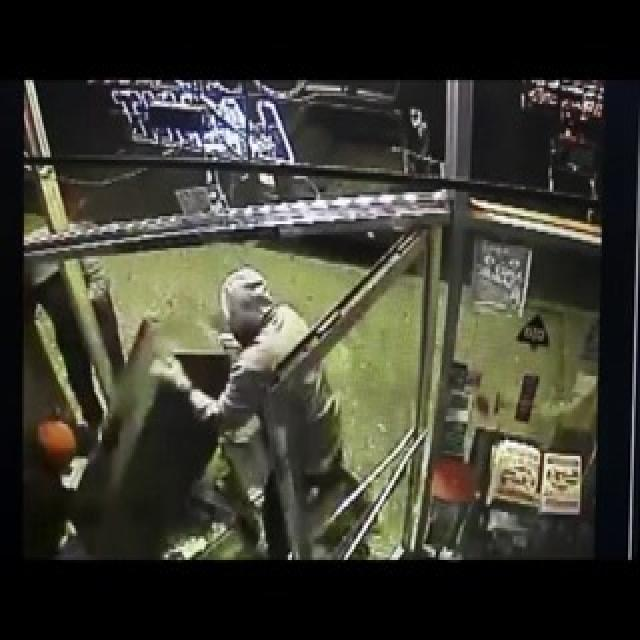thief: (212, 260, 308, 373), (21, 212, 100, 321), (36, 390, 84, 487)
